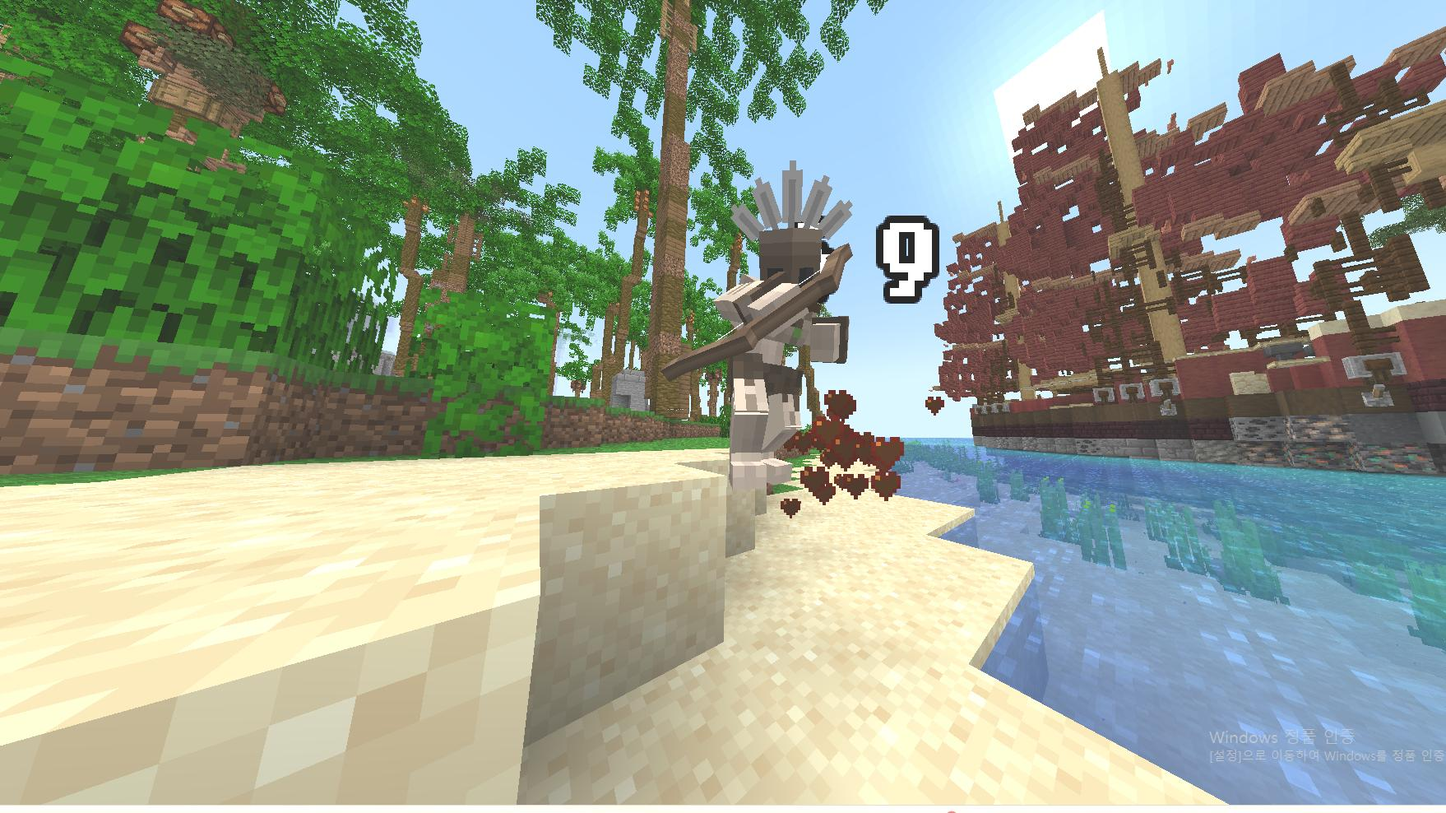bow_indian: (655, 153, 910, 536)
